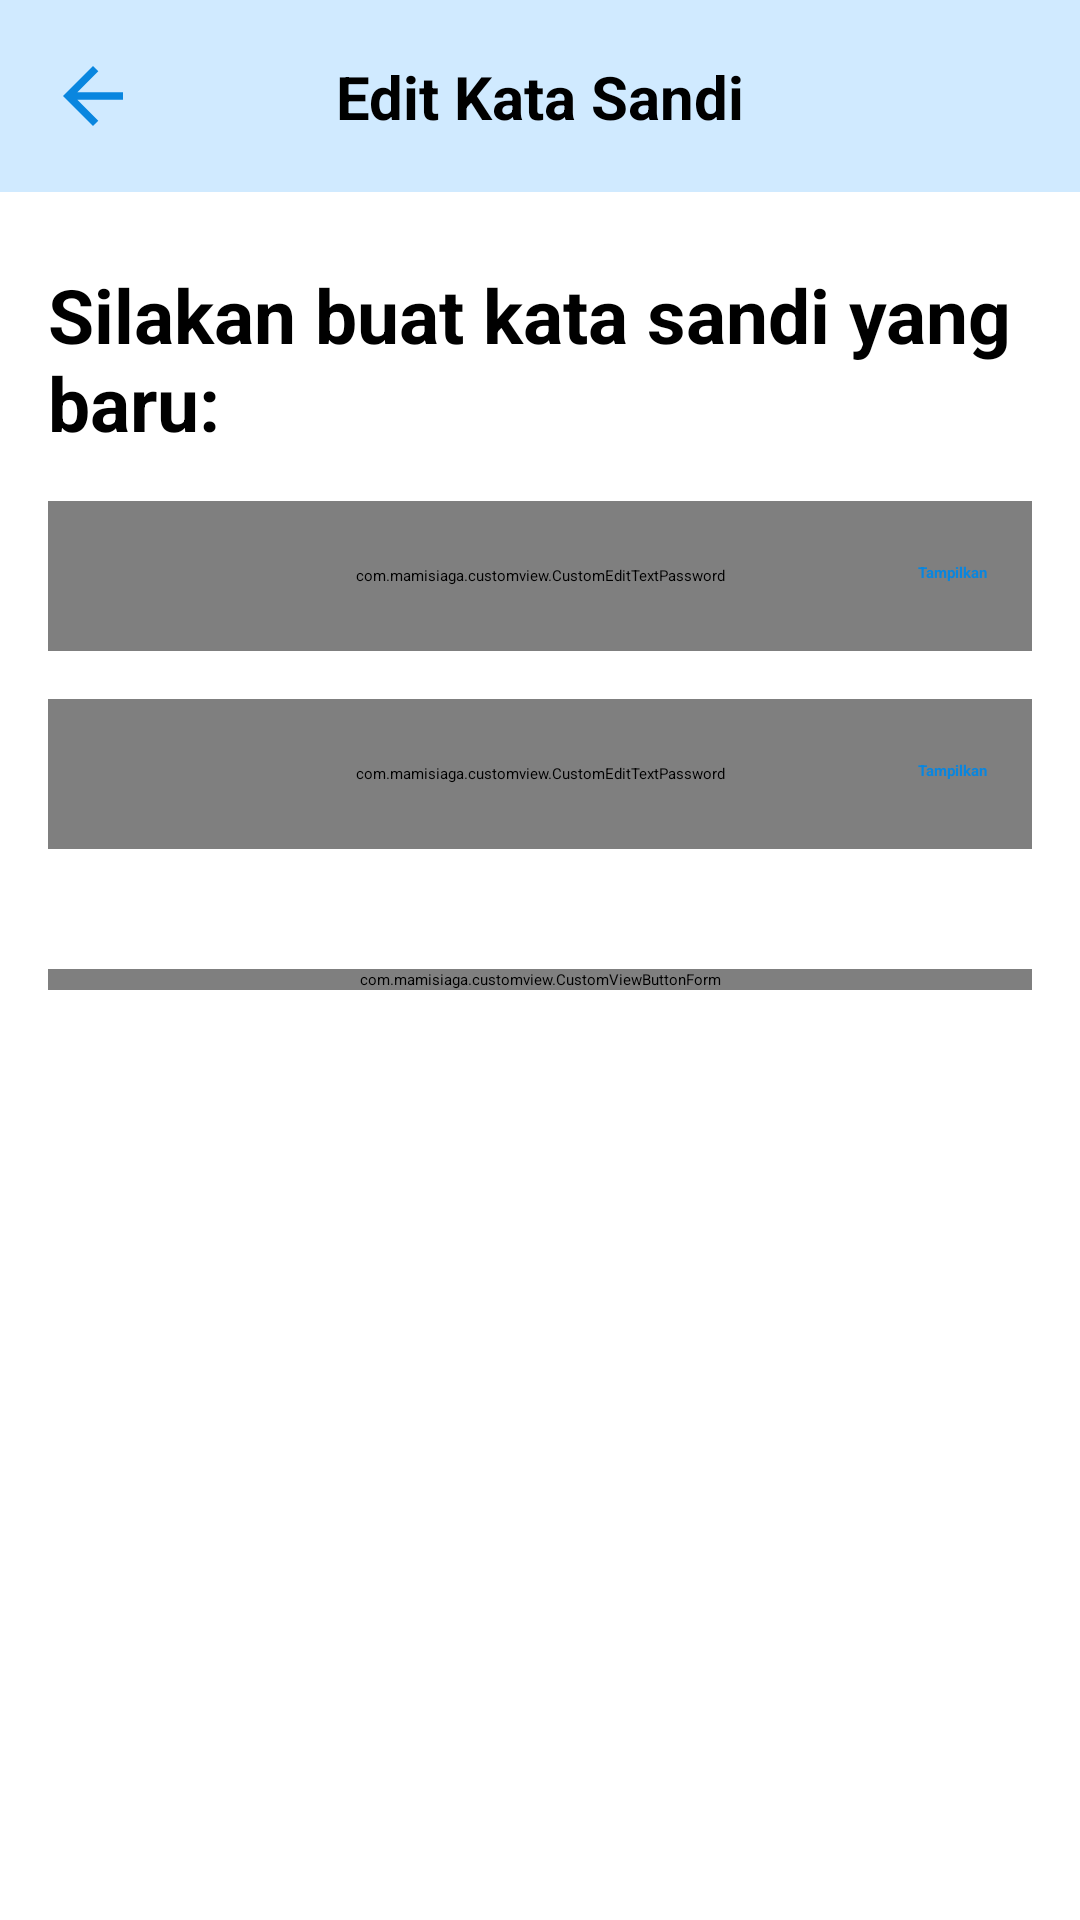

Icons on this 1080px×1920px Android screen, each with its box as [x1, y1, x2, y2]:
arrow back: [63, 66, 123, 126]
